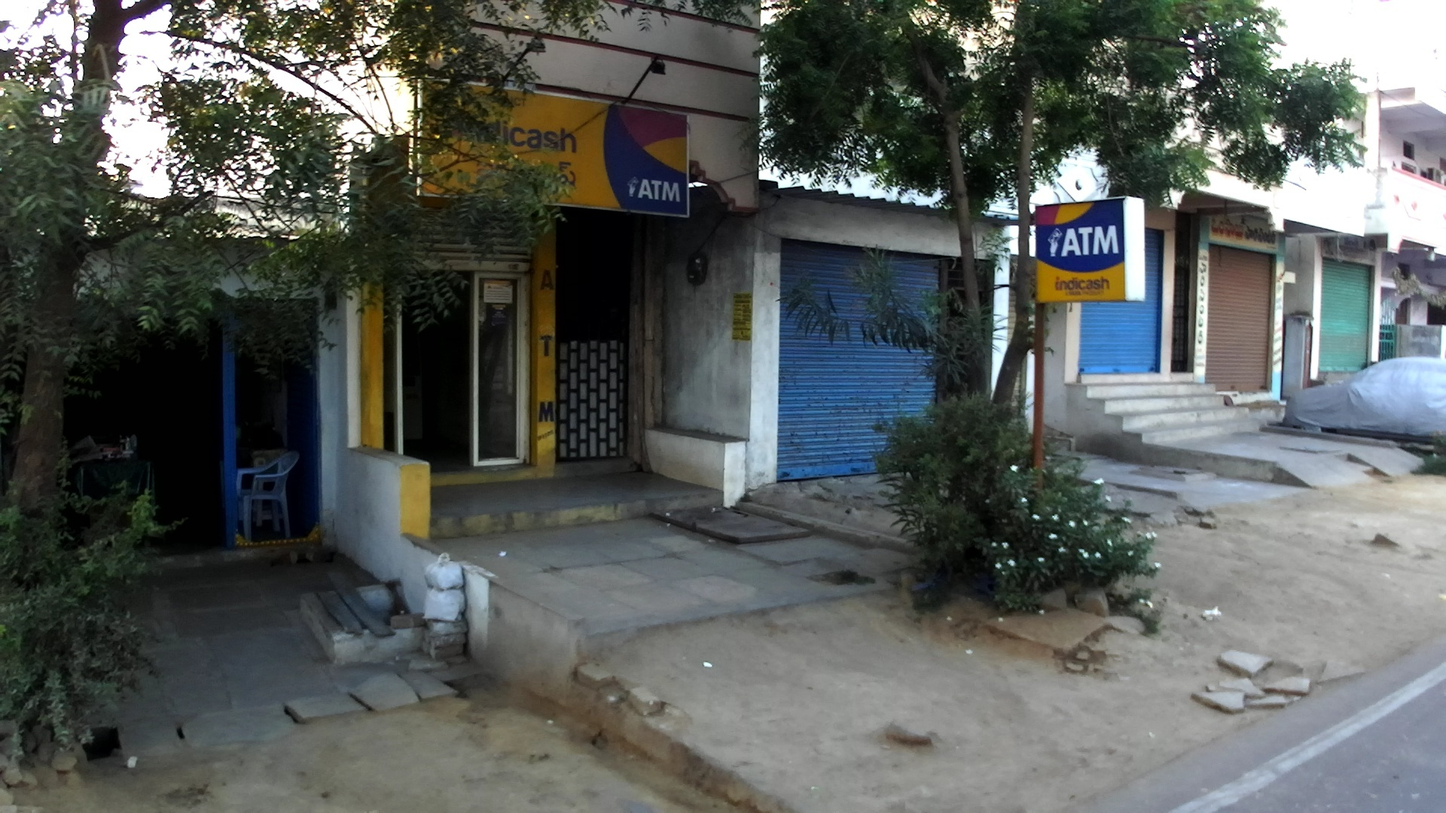car: (1282, 351, 1445, 443)
